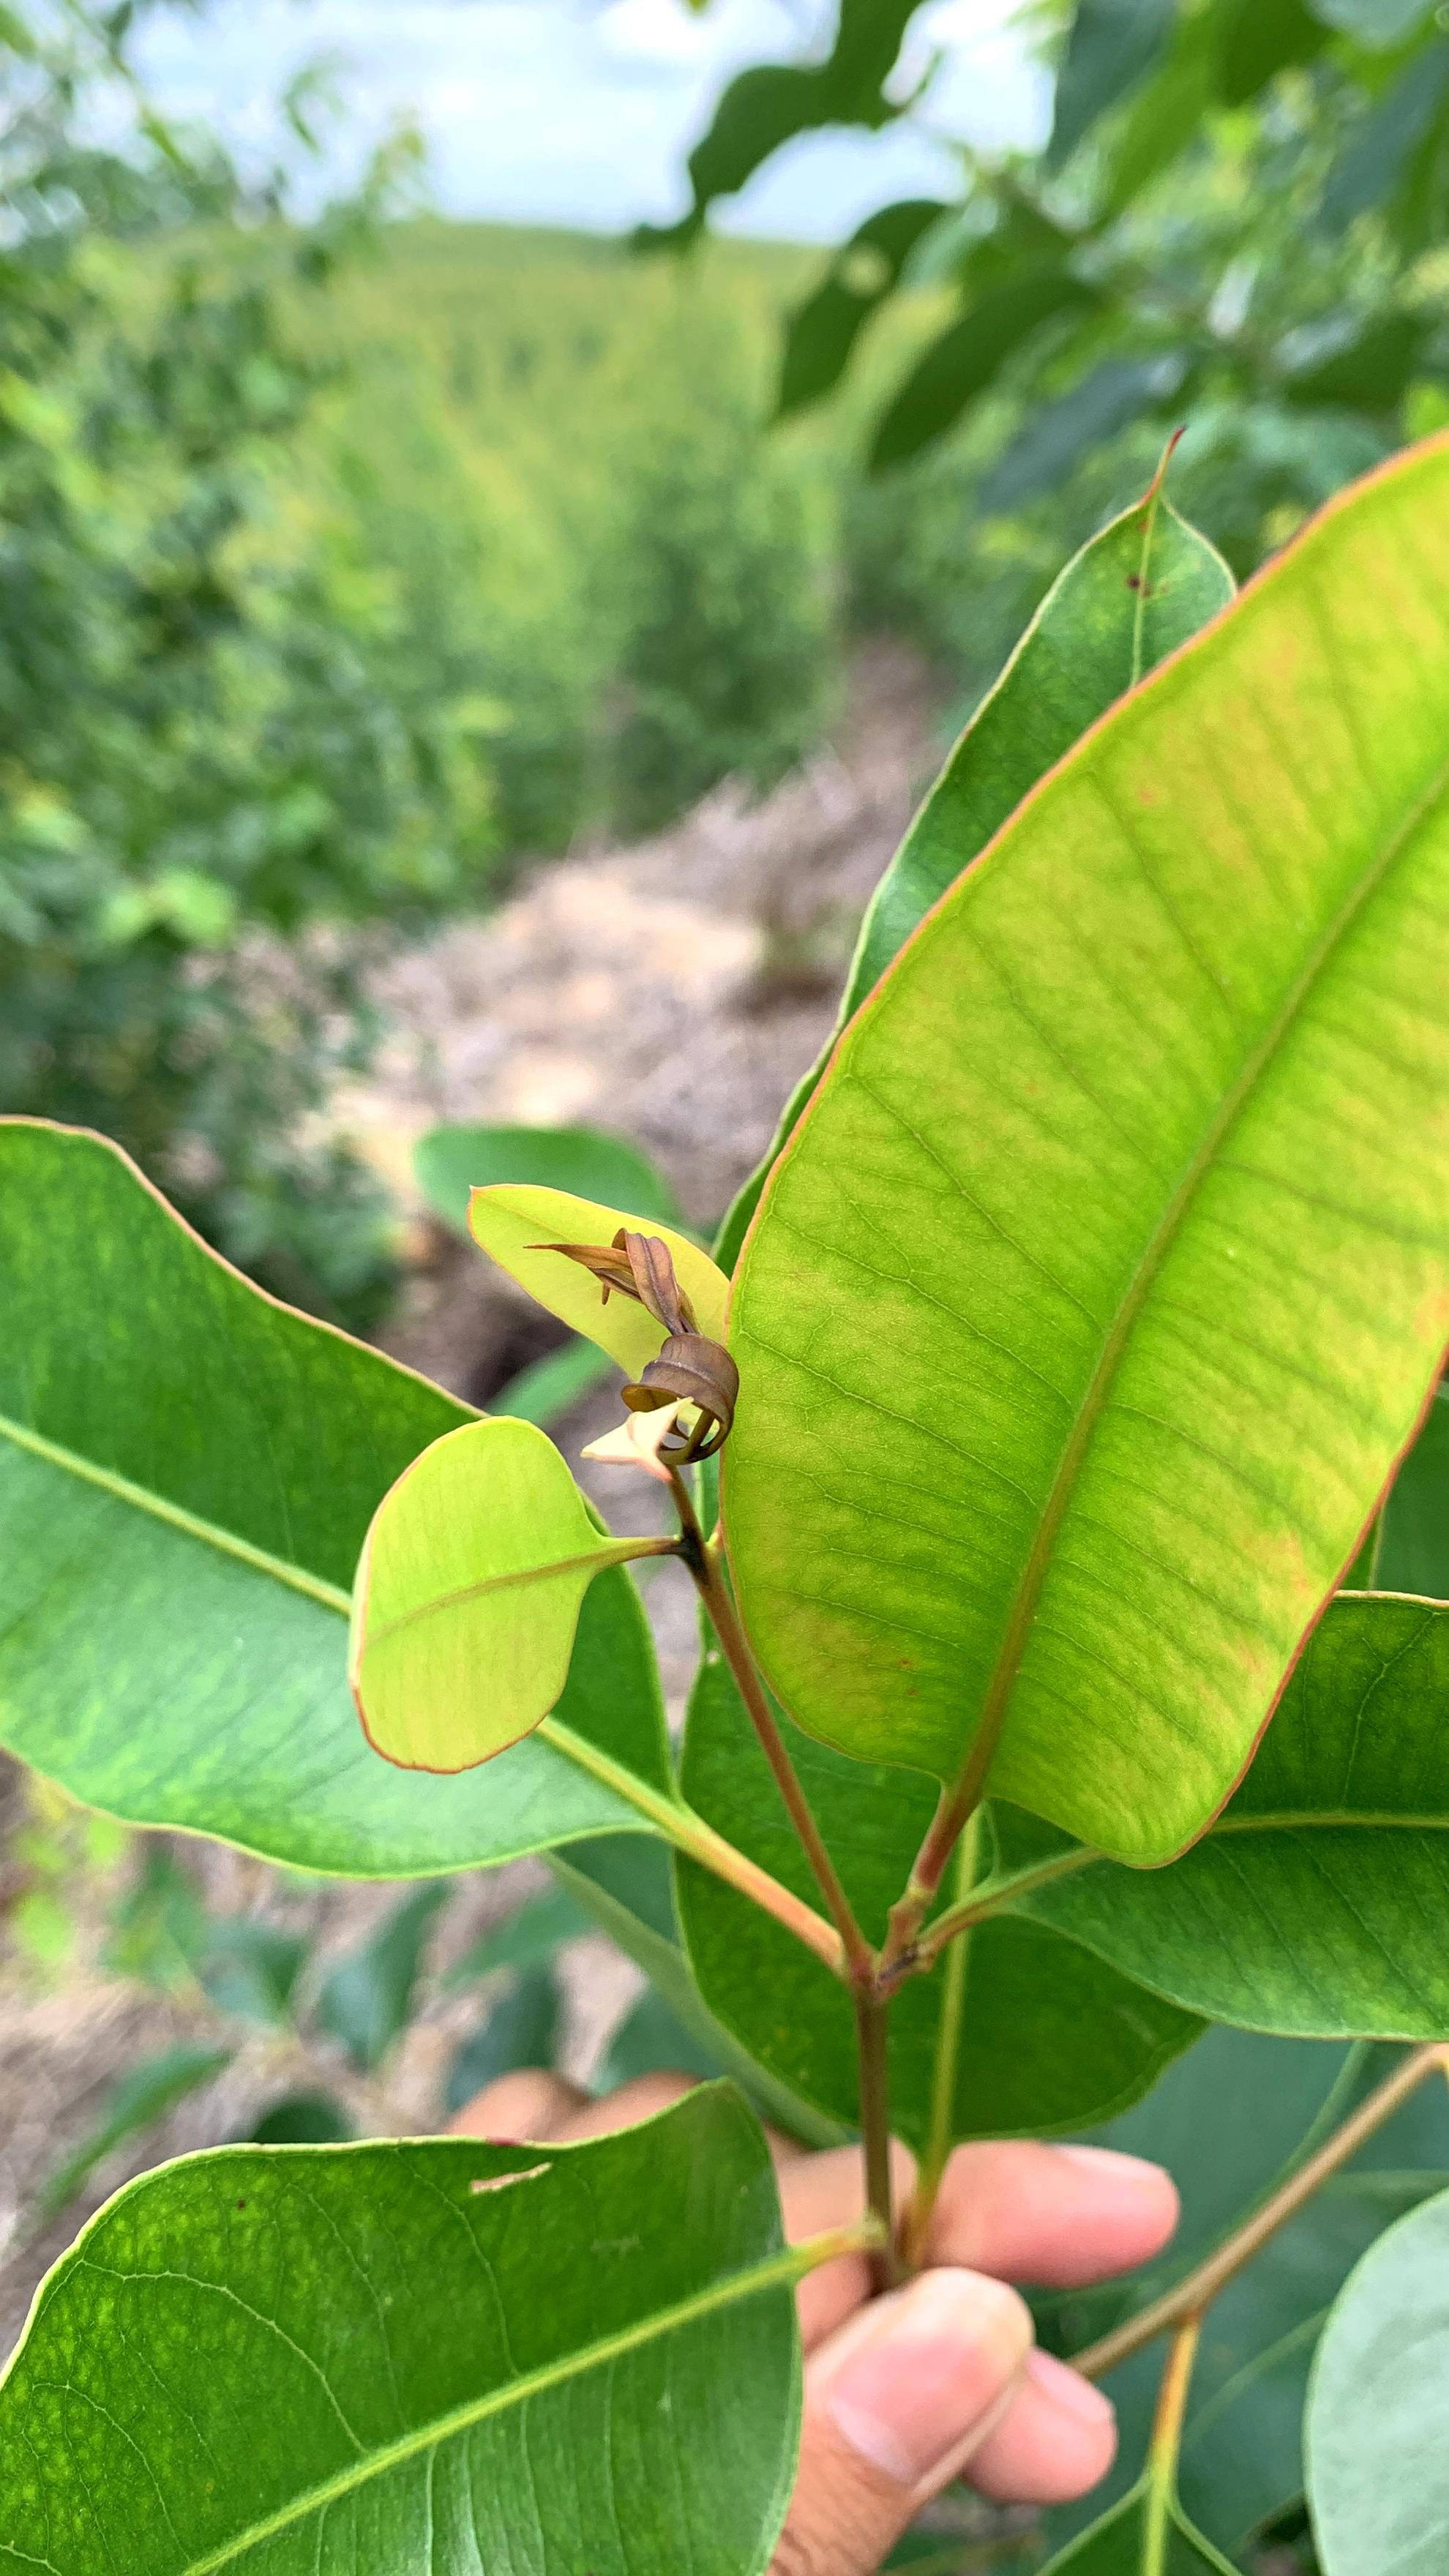Helopeltis-Withered Sprout: (488, 1201, 814, 1548)
